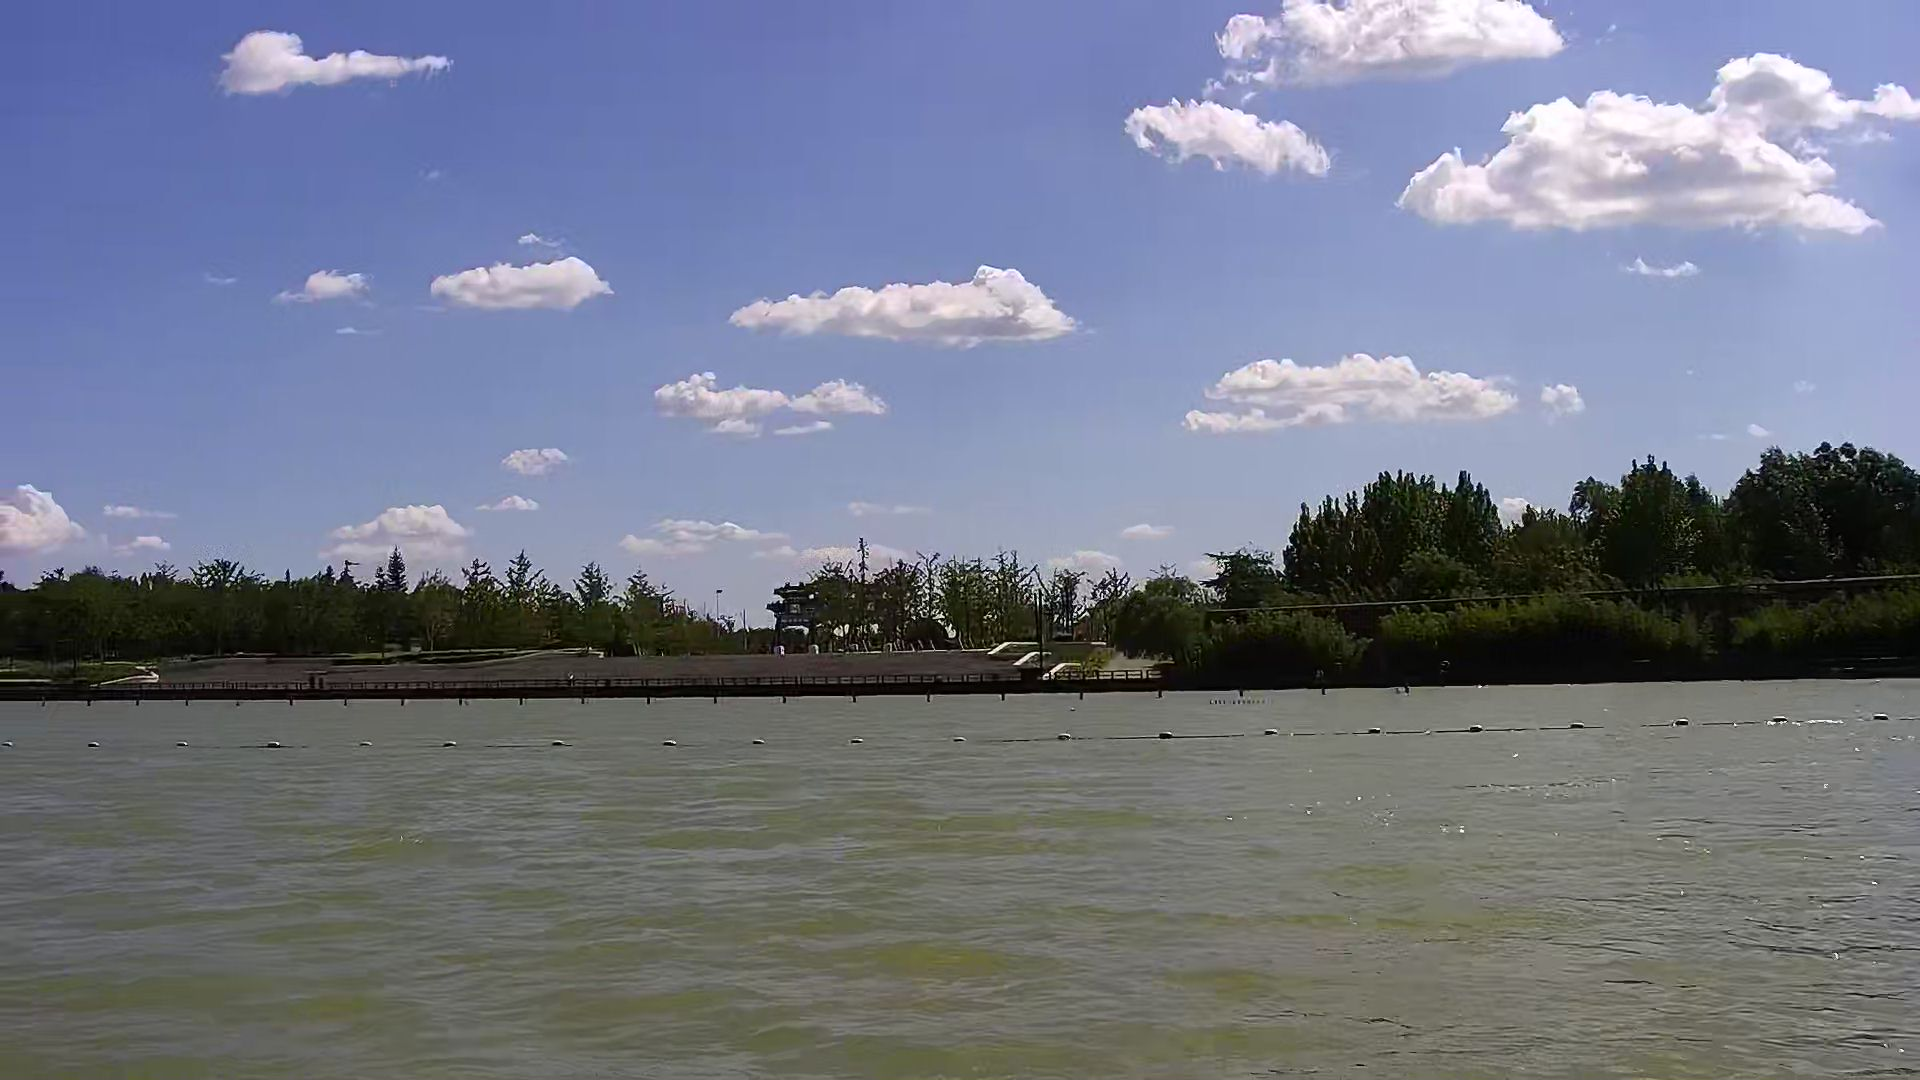ball: (1050, 725, 1081, 749), (1255, 717, 1287, 741), (545, 731, 575, 749), (80, 735, 107, 756), (1151, 723, 1180, 741), (1461, 720, 1487, 738), (266, 731, 285, 749)
harbor: (1, 650, 1163, 694)
